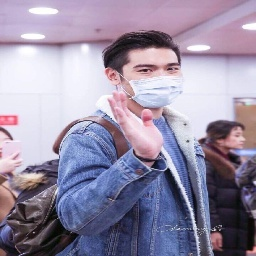correctlyWear: (103, 56, 184, 107)
noWear: (216, 127, 245, 149), (1, 132, 14, 162)
